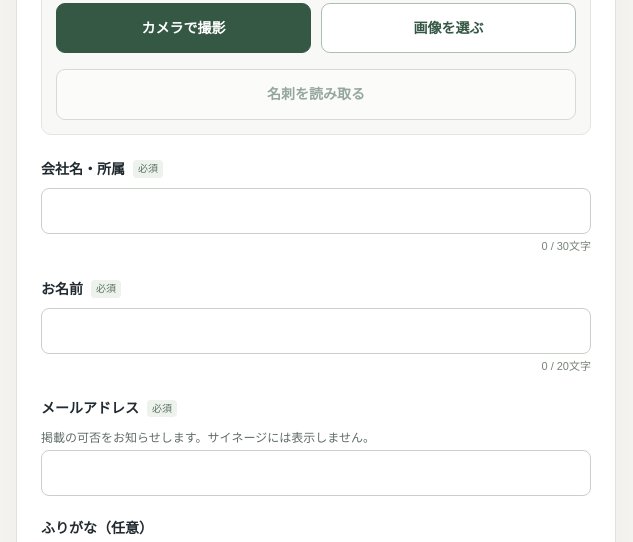
本人登録フォーム › 名前の次に必須のメール欄と用途を表示し、文字数を出さず、未入力と不正形式を送らない
(page scrolled)
Expected: the text "掲載の可否をお知らせします。サイネージには表示しません。" is shown, [41,431,375,445]
Type " 株式会社サンプル " into the field labelled "会社名・所属".
click(316, 212); type(" 株式会社サンプル ")  # box [41,188,591,234]
Type "山田 太郎" into the field labelled "お名前".
click(316, 331); type("山田 太郎")  # box [41,308,591,354]
Type " member@example.com " into the field labelled "メールアドレス".
click(316, 473); type(" member@example.com ")  # box [41,450,591,496]
(page scrolled)
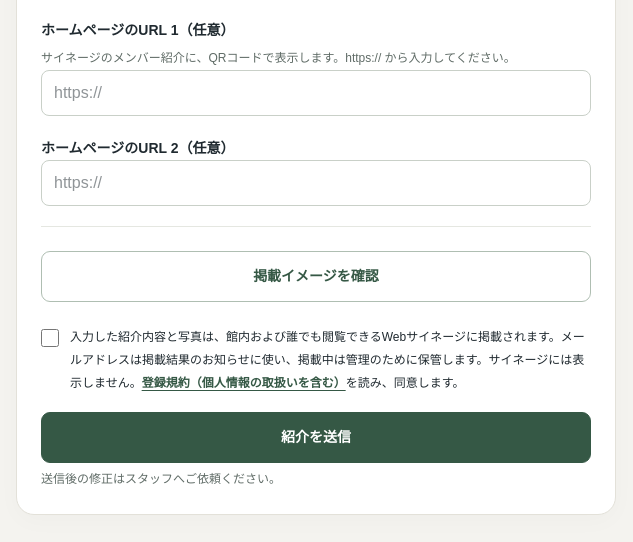
Click the checkbox.
click(50, 338)  # box [41,329,59,347]
(page scrolled)
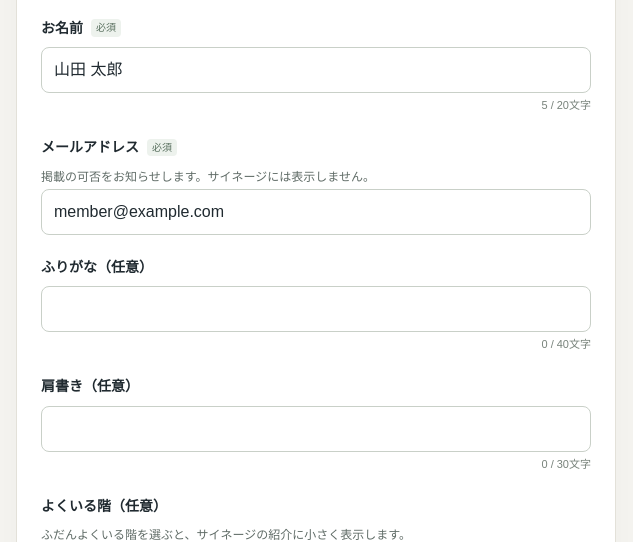
Clear the field labelled "メールアドレス" at x=316, y=212, box [41,189,591,235]
(page scrolled)
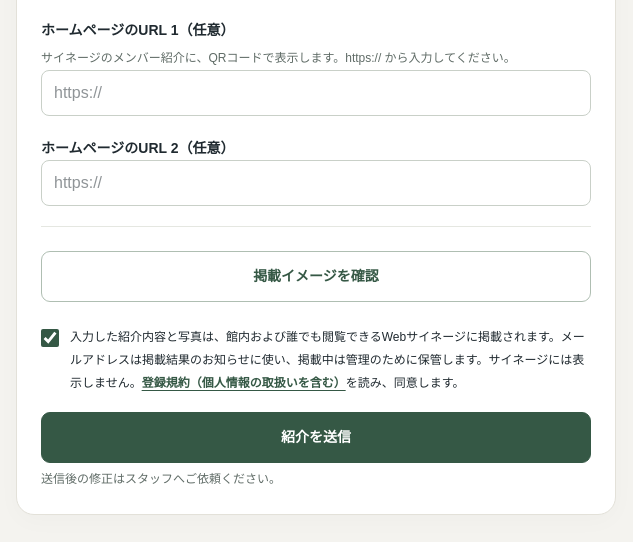
Click the button "紹介を送信".
click(316, 438)  # box [41,412,591,463]
(page scrolled)
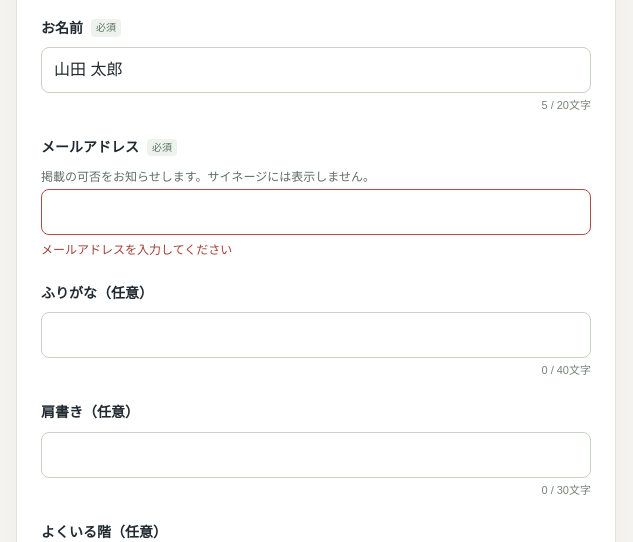
Expected: the text "メールアドレスを入力してください" is shown, [41,243,232,257]
Type "invalid" into the field labelled "メールアドレス".
click(316, 212); type("invalid")  # box [41,189,591,235]
(page scrolled)
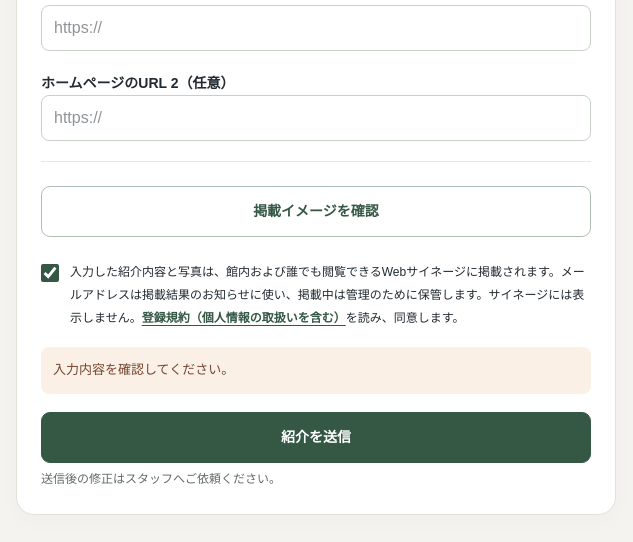
Click the button "紹介を送信".
click(316, 437)  # box [41,412,591,463]
(page scrolled)
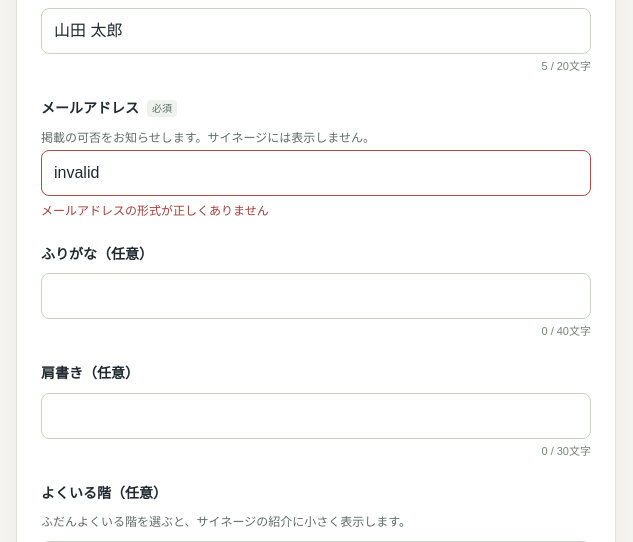
Expected: the text "メールアドレスの形式が正しくありません" is shown, [41,204,269,218]
